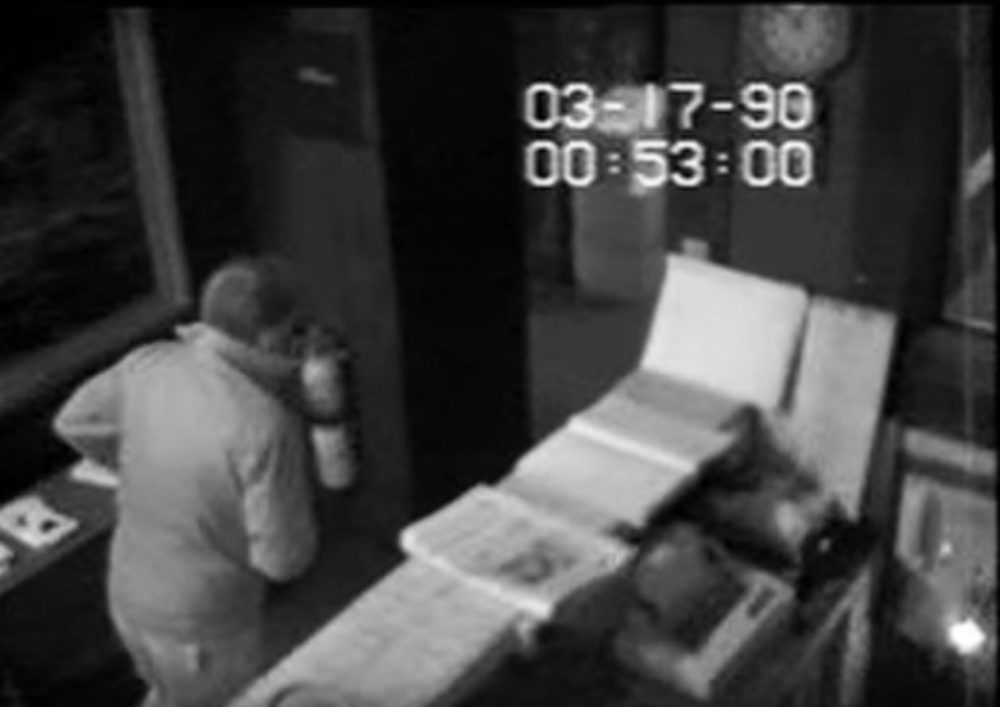Person: (53, 251, 341, 688)
